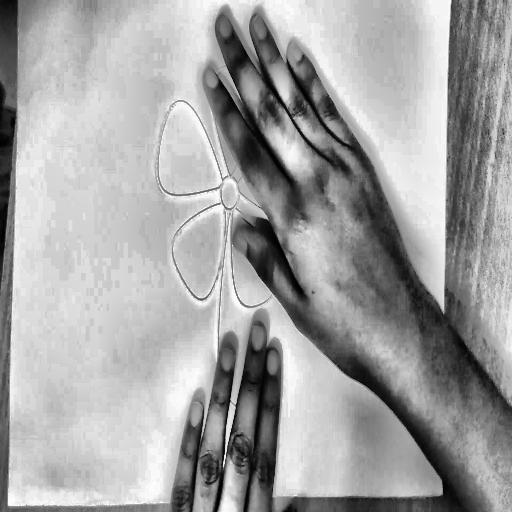bottom_left: (3, 495, 13, 512)
bottom_right: (436, 479, 448, 501)
flower: (149, 44, 322, 439)
